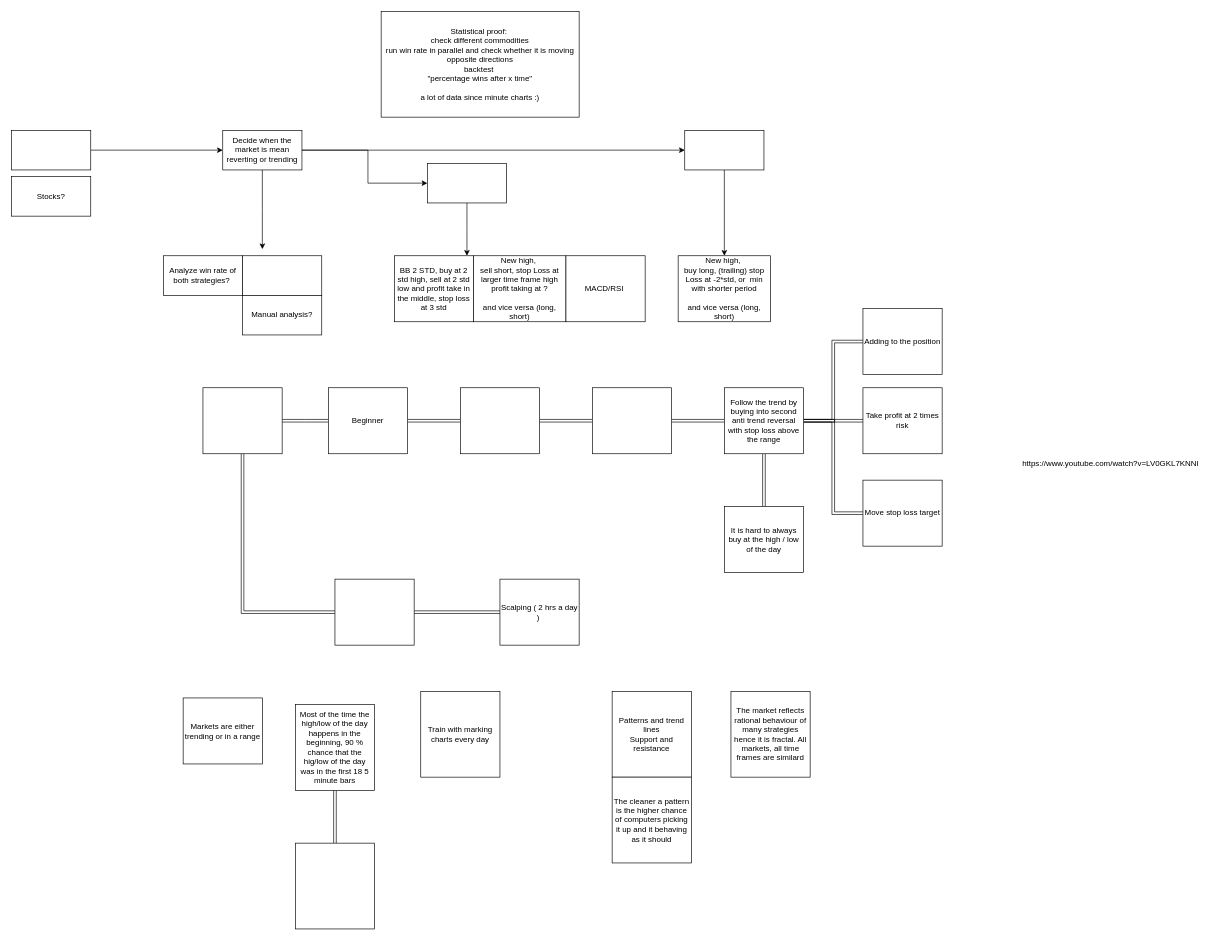
The diagram is 1218 pixels wide and 941 high, and some of its shapes have lost their labels. The shapes that lost their labels are listed below. From the top down, each one's centre as x and y in pixels, then its label:
At (x=51, y=150): "Commodities / Index Futures Universe wegen Leverage?".
At (x=724, y=150): "Trend Following on short time frame".
At (x=467, y=183): "Mean Reverting on short time frame".
At (x=282, y=275): "Use longer time frame to check whether in a trading range".
At (x=242, y=420): "Al Brooks: Goal 1 pip a day as consistently as possible".
At (x=500, y=420): "Trend following on 5 minute candles".
At (x=632, y=420): "Identify whether market is trending".
At (x=374, y=611): "Advanced".
At (x=335, y=885): "Validation with qc?".
